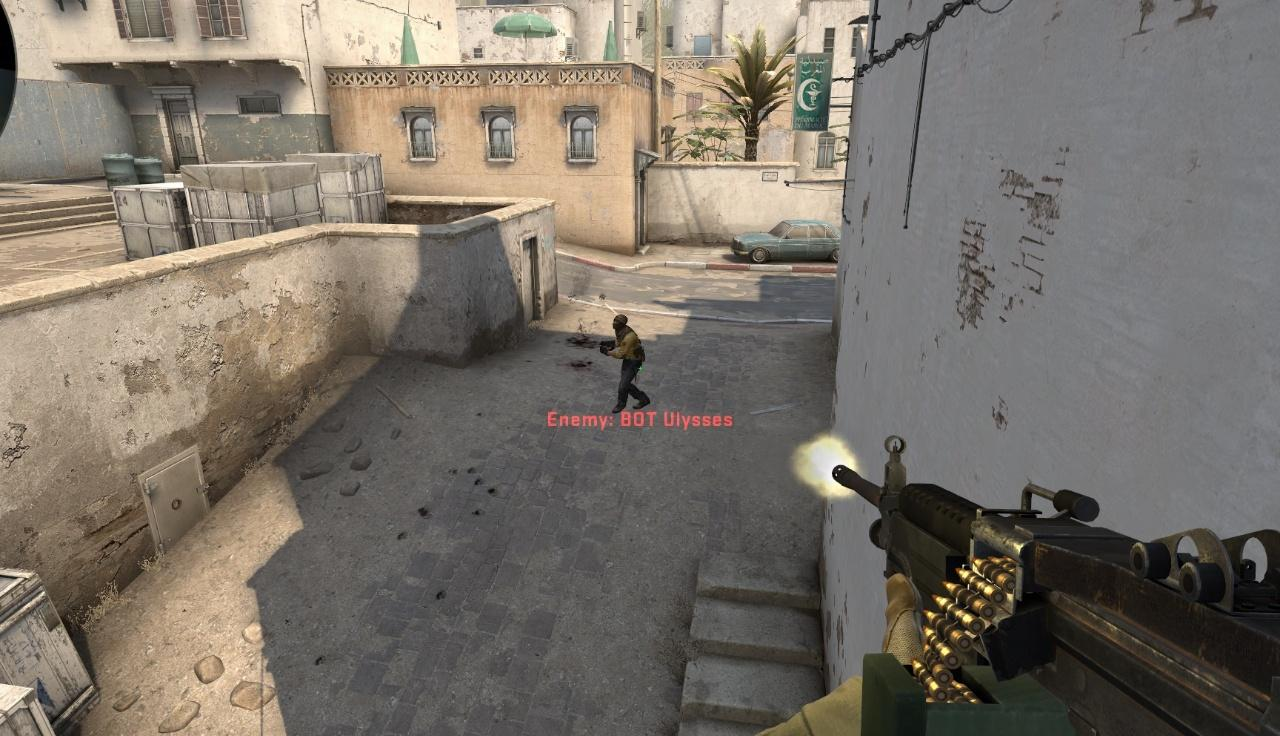rifle: (829, 438, 1280, 736)
tt: (609, 315, 645, 408)
tthead: (613, 315, 627, 329)
